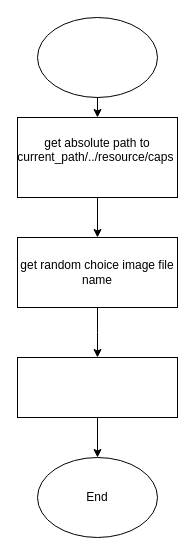
Some shapes in this 195 by 555 pixel diagram are drawn without their labels. The shapes that lost their labels are listed below. From the top down, each one's centre as x and y in pixels, then its label:
At point 97,57: "Start".
At point 97,387: "return image-name and absolute path to image file".
